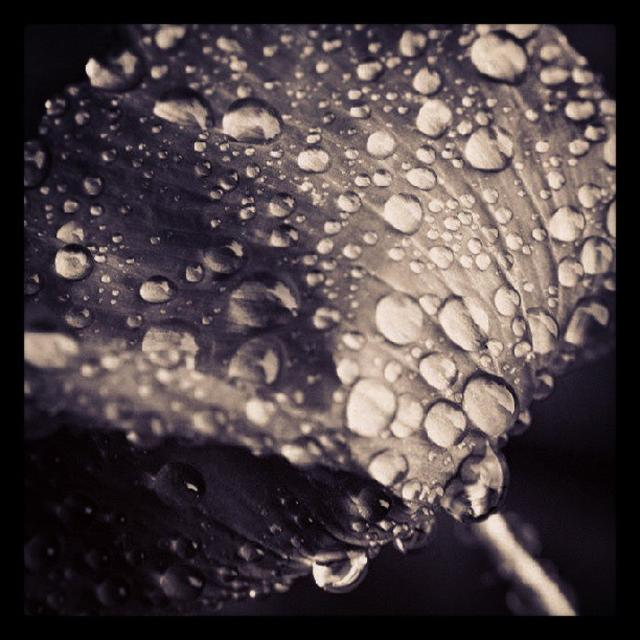Flower: (4, 11, 638, 631)
